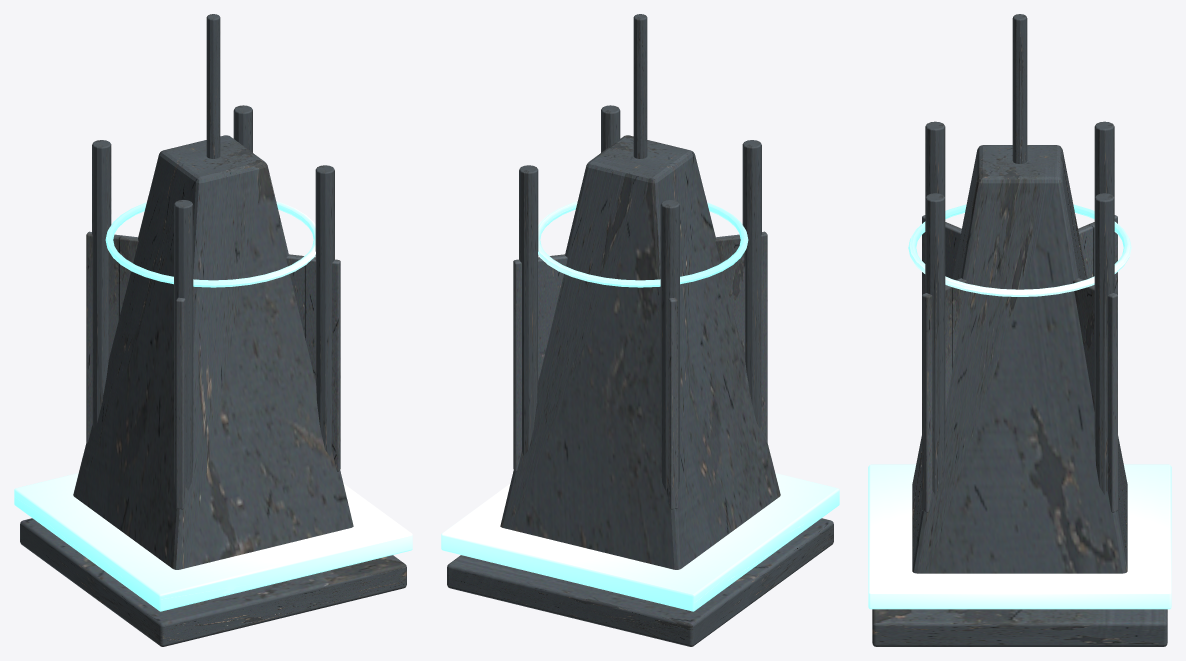
Rendered from tower_spire.glb.
3 views of the same model, side by side, from view 1: azimuth 30°, elevation 25°; view 2: azimuth 150°, elevation 25°; view 3: azimuth 270°, elevation 25° (orthographic). The views are drawn at different scales.
Visible parts, largest first — view 1: SpireShaft, SpireEnergyRing, SpireRing, SpireStrut0, SpireStrut2, SpireStrut1, SpireFin0, SpireFin2, SpireHalo, SpireFin1, SpireAntenna, SpireStrut3; view 2: SpireShaft, SpireEnergyRing, SpireRing, SpireStrut3, SpireStrut1, SpireStrut2, SpireFin3, SpireFin1, SpireHalo, SpireFin2, SpireAntenna, SpireStrut0; view 3: SpireShaft, SpireEnergyRing, SpireRing, SpireStrut0, SpireStrut3, SpireFin0, SpireFin3, SpireHalo, SpireAntenna, SpireStrut1, SpireStrut2, SpireFin1 (+1 smaller).
Boxes of the visible parts, left/top/right/bottom form: SpireShaft: left=73, top=135, right=353, bottom=569; SpireEnergyRing: left=14, top=473, right=412, bottom=611; SpireRing: left=20, top=518, right=406, bottom=646; SpireStrut0: left=315, top=165, right=334, bottom=455; SpireStrut2: left=92, top=140, right=111, bottom=429; SpireStrut1: left=174, top=200, right=193, bottom=490; SpireFin0: left=286, top=254, right=340, bottom=471; SpireFin2: left=86, top=231, right=138, bottom=443; SpireHalo: left=105, top=201, right=315, bottom=287; SpireFin1: left=176, top=279, right=197, bottom=509; SpireAntenna: left=206, top=14, right=220, bottom=158; SpireStrut3: left=233, top=105, right=252, bottom=152; SpireShaft: left=500, top=135, right=780, bottom=569; SpireEnergyRing: left=441, top=473, right=839, bottom=611; SpireRing: left=447, top=518, right=833, bottom=646; SpireStrut3: left=519, top=165, right=538, bottom=455; SpireStrut1: left=742, top=140, right=761, bottom=429; SpireStrut2: left=660, top=200, right=679, bottom=490; SpireFin3: left=513, top=254, right=567, bottom=471; SpireFin1: left=715, top=231, right=767, bottom=443; SpireHalo: left=538, top=201, right=748, bottom=287; SpireFin2: left=656, top=279, right=677, bottom=509; SpireAntenna: left=633, top=14, right=647, bottom=158; SpireStrut0: left=601, top=105, right=620, bottom=152; SpireShaft: left=912, top=145, right=1127, bottom=573; SpireEnergyRing: left=868, top=464, right=1171, bottom=609; SpireRing: left=872, top=609, right=1167, bottom=646; SpireStrut0: left=925, top=193, right=945, bottom=494; SpireStrut3: left=1094, top=193, right=1114, bottom=494; SpireFin0: left=922, top=278, right=966, bottom=512; SpireFin3: left=1073, top=278, right=1117, bottom=512; SpireHalo: left=908, top=204, right=1131, bottom=296; SpireAntenna: left=1012, top=14, right=1027, bottom=163; SpireStrut1: left=925, top=121, right=945, bottom=197; SpireStrut2: left=1094, top=121, right=1114, bottom=197; SpireFin1: left=922, top=215, right=961, bottom=294.
Size of the model in its own units: 7.6 by 16 by 7.6.
3 materials, 3 textured.
